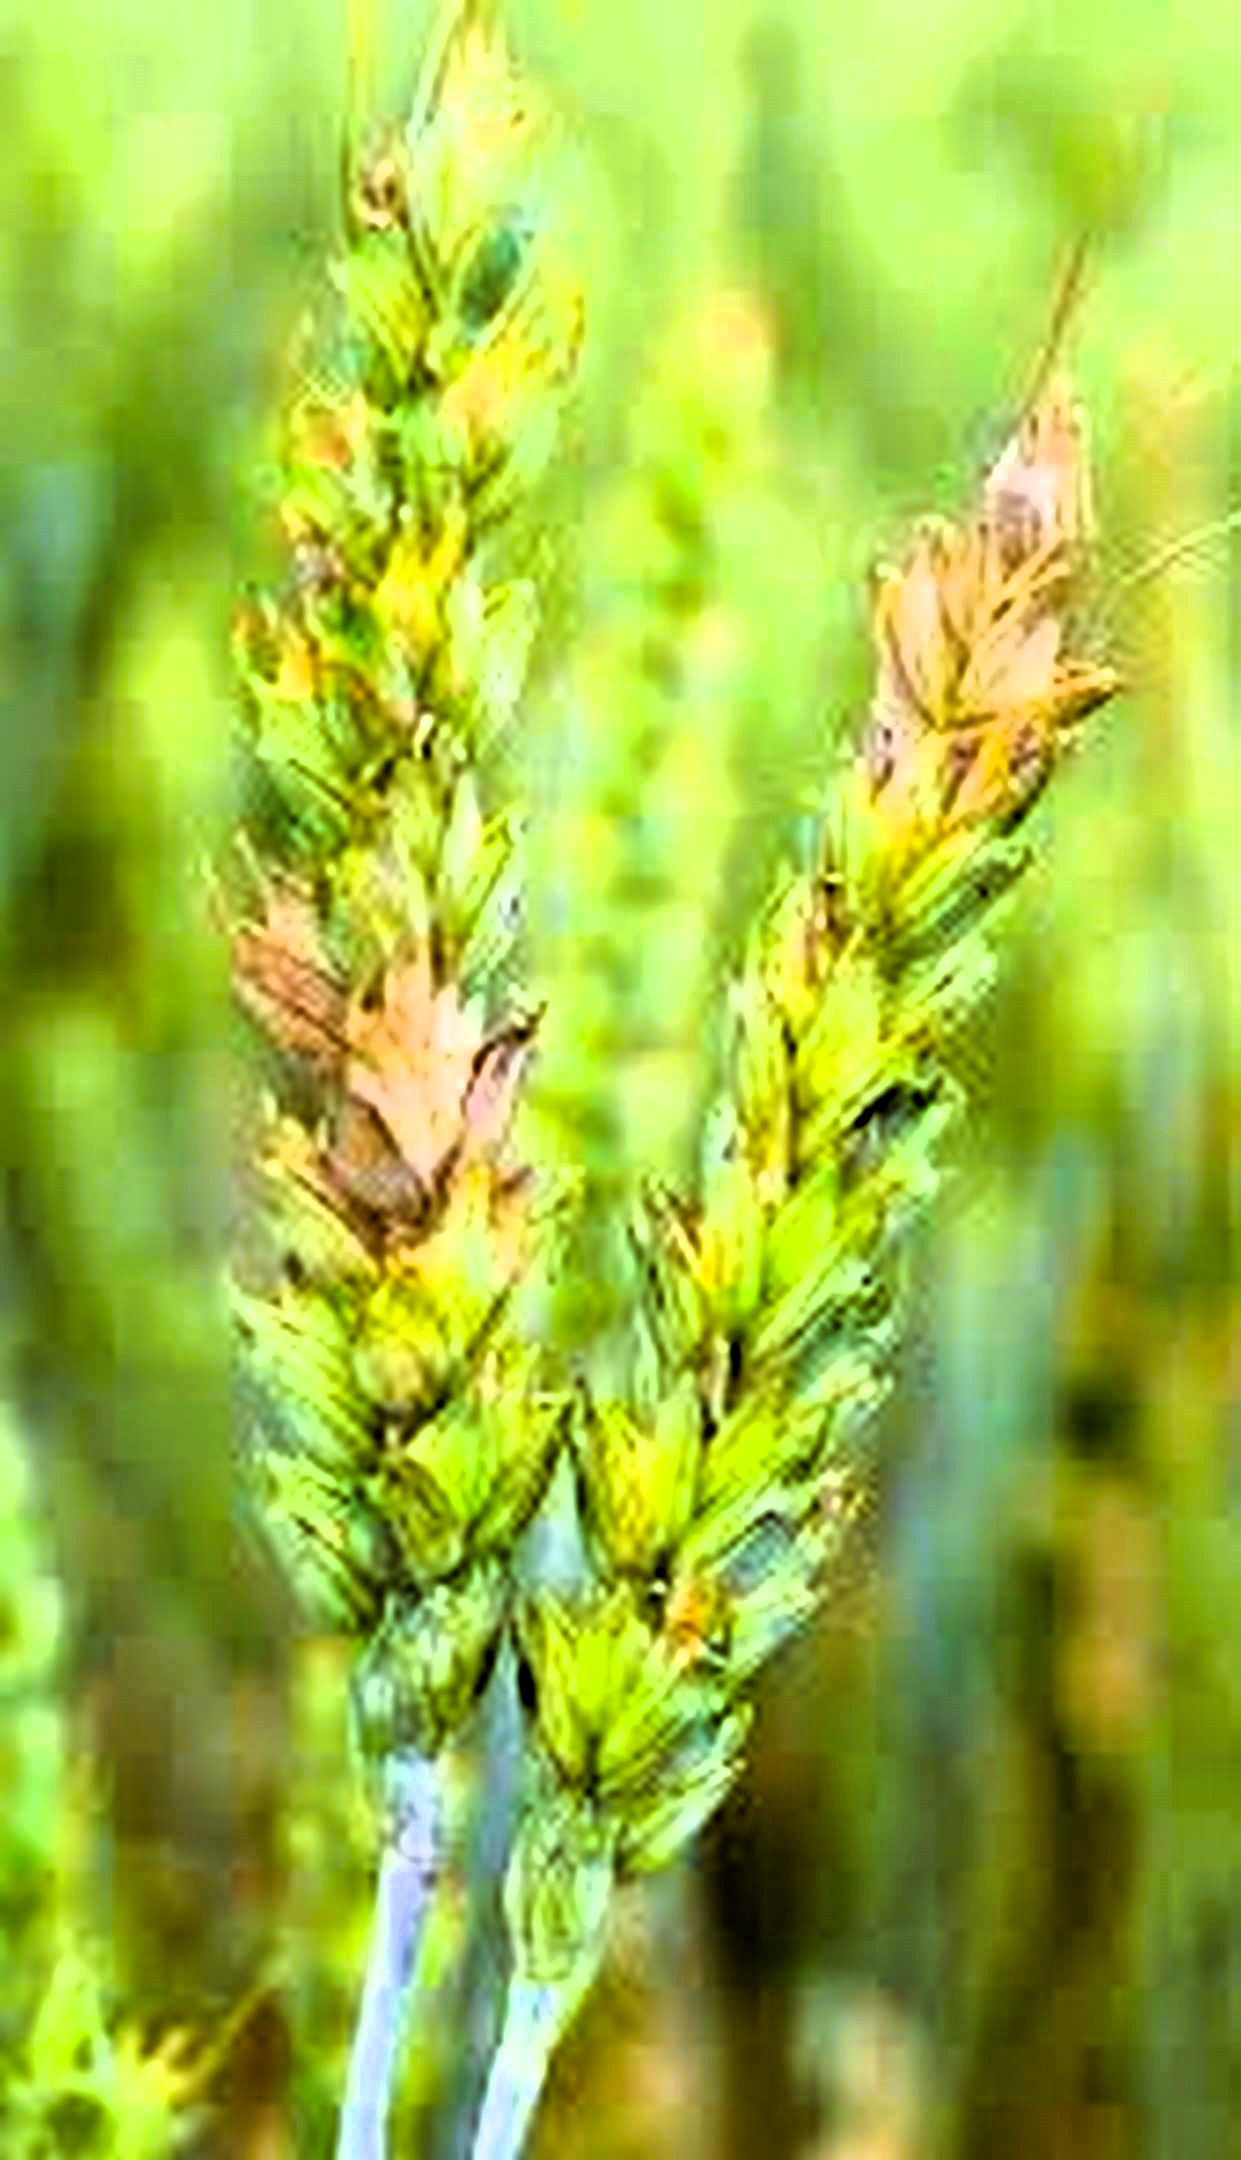Wheat scab: (175, 52, 603, 1725)
